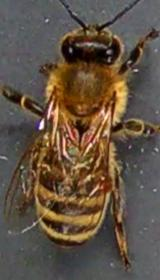varroa_mite: (85, 170, 114, 195)
